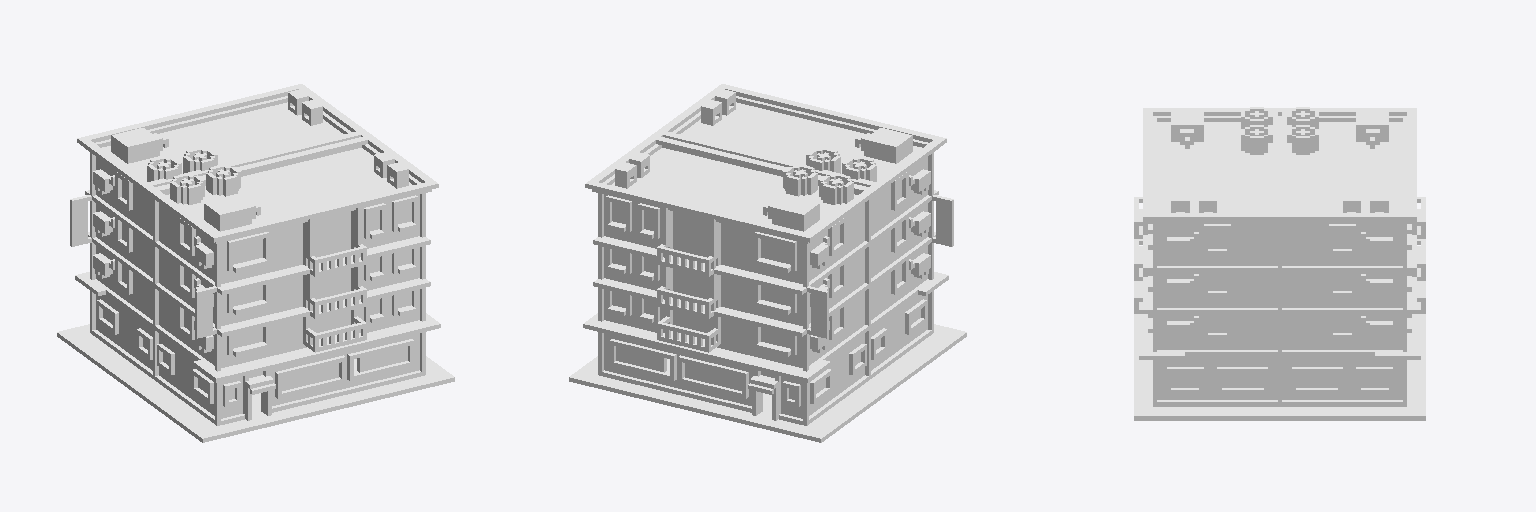
File: Apartment+combine.obj
The picture shows the model from 3 angles: view 1: azimuth 30°, elevation 25°; view 2: azimuth 150°, elevation 25°; view 3: azimuth 270°, elevation 25°; orthographic projection.
Bounding box in the file's own units: 63 × 49 × 63.